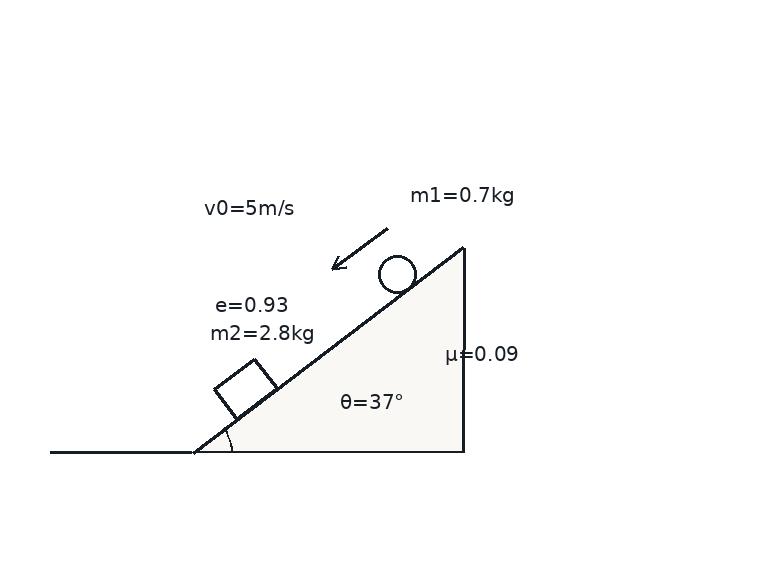ball: (376, 253, 418, 295)
block: (211, 356, 279, 421)
ramp: (190, 245, 466, 454)
